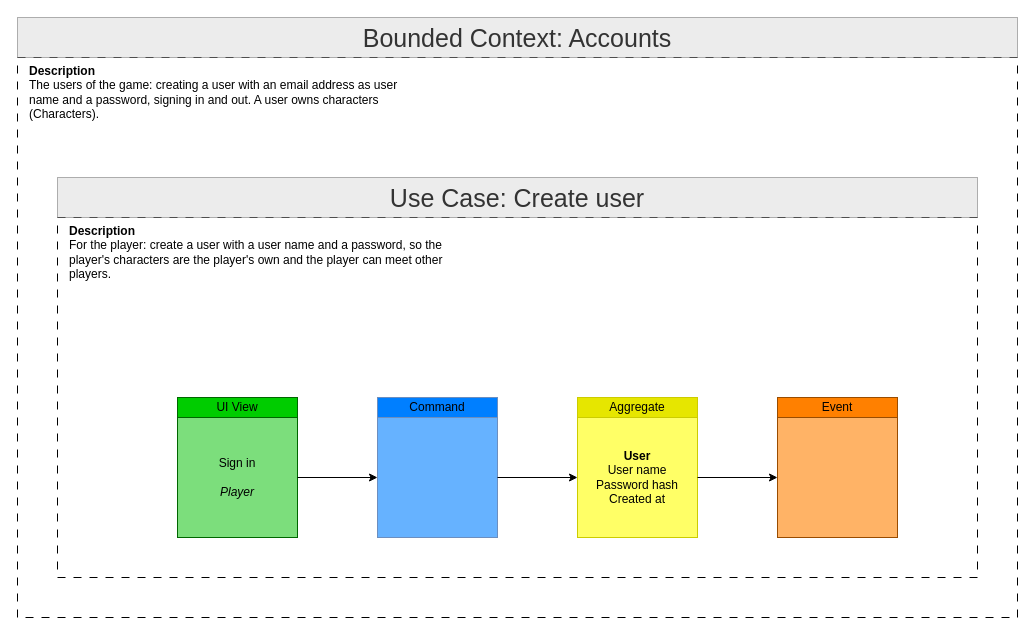
Image size: 1035x635. Some labels were removed from this diagram. The shapes that lost their labels are listed below. From the top down, each one's box as (x1, y1, x2, y2) in pixels, then its label:
(376, 416, 498, 538): Create user User name Password
(776, 416, 898, 538): User created
